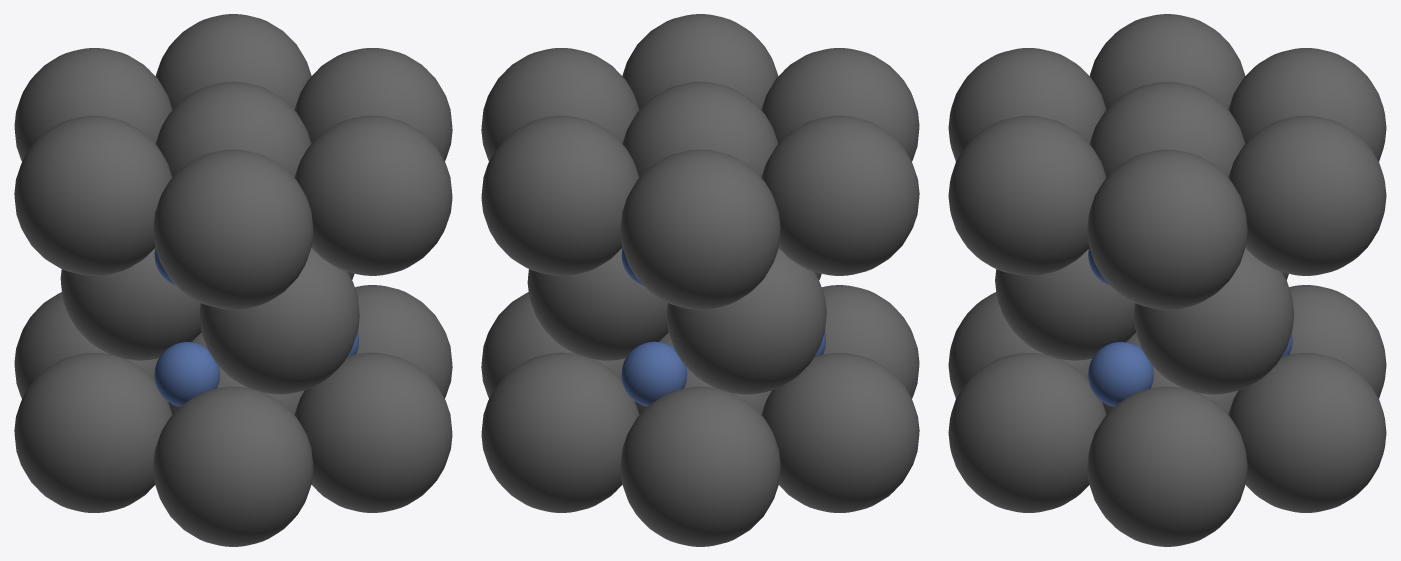
The model's file is Hdp_OL.glb.
3 renders of one model, left to right at view 1: azimuth 30°, elevation 25°; view 2: azimuth 150°, elevation 25°; view 3: azimuth 270°, elevation 25°, orthographic.
Visible parts, largest first — view 1: Sphere.007, Sphere.005; view 2: Sphere.007, Sphere.005; view 3: Sphere.007, Sphere.005.
Part boxes in pixels (box(x1,y1,x2,y2)): Sphere.007: box(14, 14, 452, 546); Sphere.005: box(154, 248, 358, 406); Sphere.007: box(481, 14, 919, 546); Sphere.005: box(621, 248, 825, 406); Sphere.007: box(948, 14, 1386, 546); Sphere.005: box(1088, 248, 1292, 406).
Size of the model in its own units: 6 by 5.26 by 5.46.
